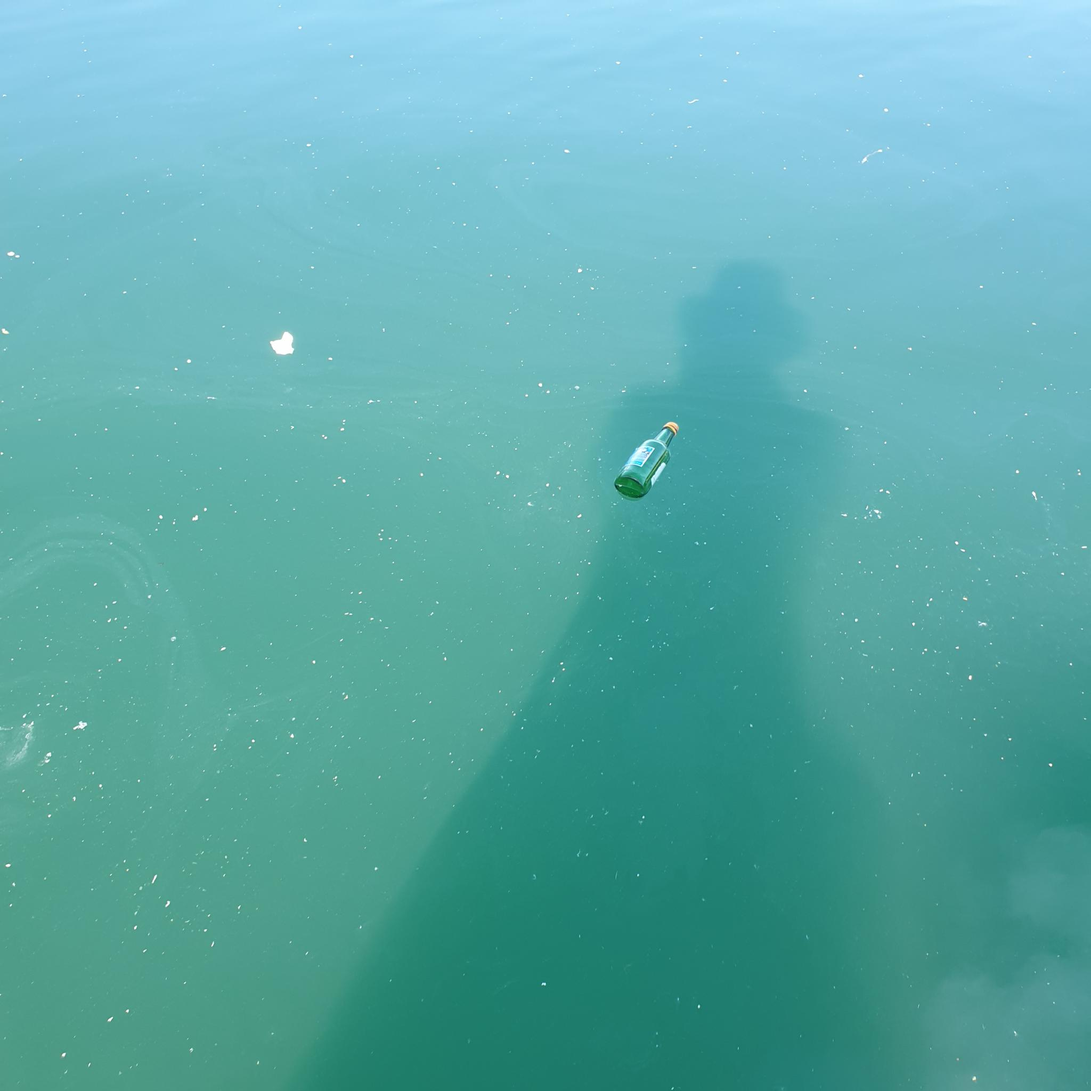sampah_terapung: (615, 422, 680, 499), (270, 332, 295, 356)
